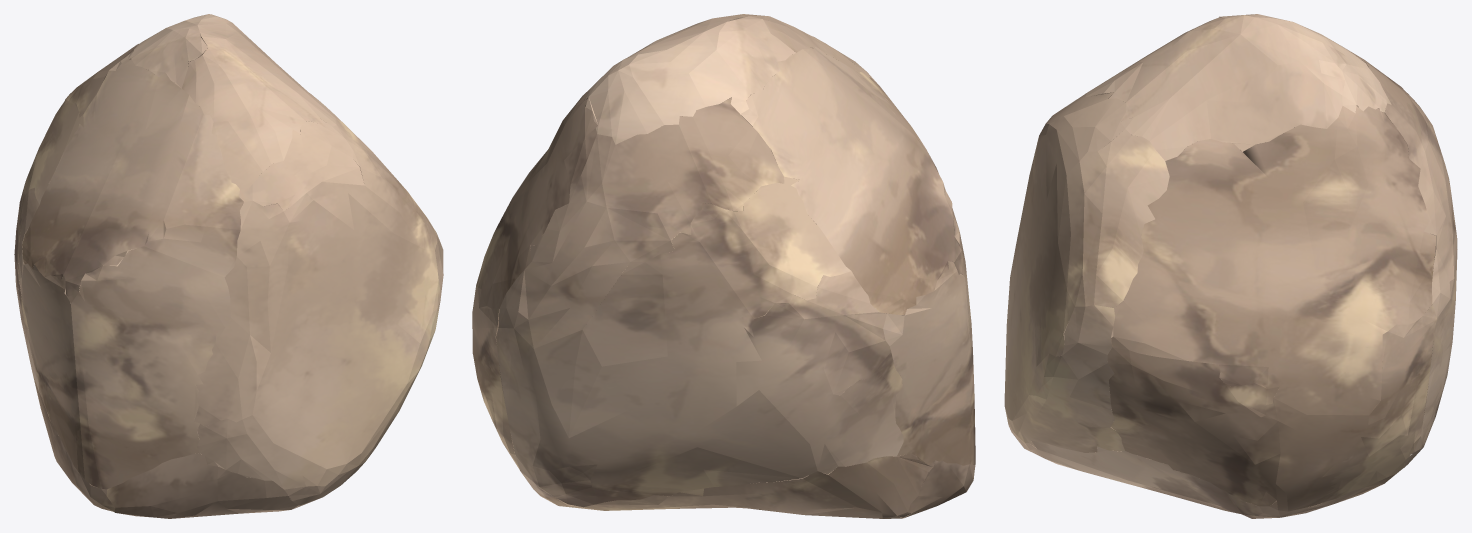
Rendered from Stone2Repo.fbx.
The picture shows the model from 3 angles, left to right: view 1: azimuth 30°, elevation 25°; view 2: azimuth 150°, elevation 25°; view 3: azimuth 270°, elevation 25°; orthographic projection. The views are drawn at different scales.
Parts seen in each view (by area): view 1: Stone 2_Baked; view 2: Stone 2_Baked; view 3: Stone 2_Baked.
Part boxes in pixels (<box>): Stone 2_Baked: <box>14,14,443,518</box>; Stone 2_Baked: <box>472,14,975,518</box>; Stone 2_Baked: <box>1004,14,1457,518</box>.
Bounding box in the file's own units: 25.14 × 26.89 × 25.24.
